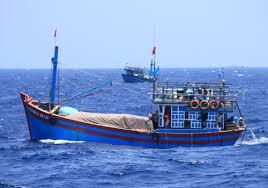Ship: (21, 47, 246, 148), (122, 41, 160, 83)
